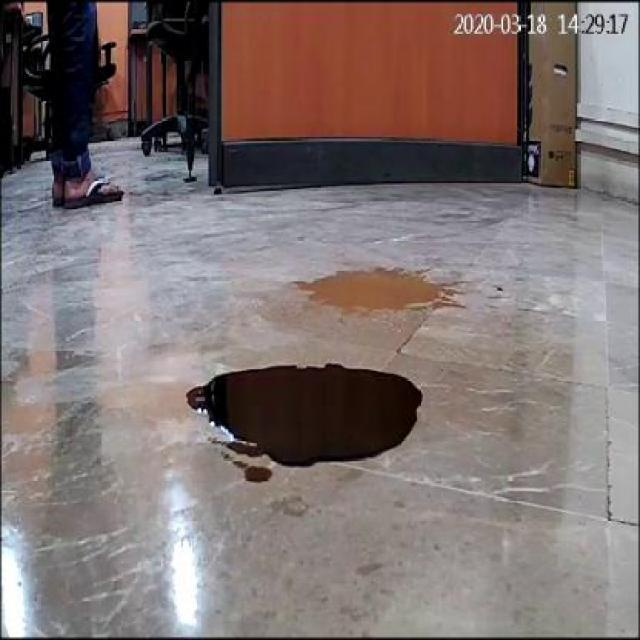spill: (184, 360, 424, 480), (287, 264, 458, 314)
